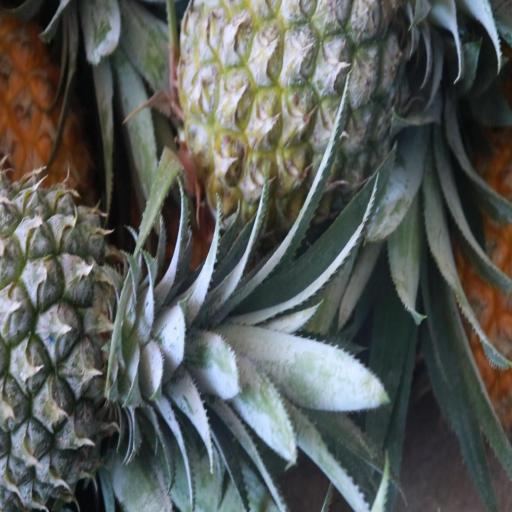------------------------------: (178, 0, 406, 218)
